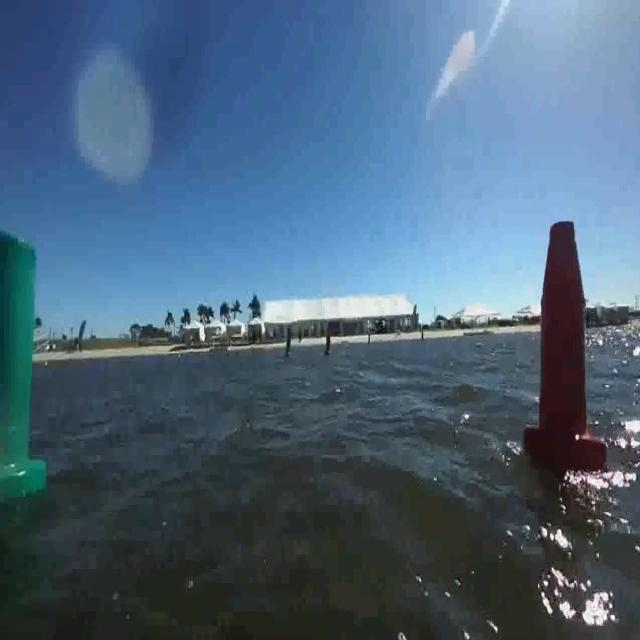green-column-buoy: (0, 227, 46, 495), (282, 326, 296, 359)
red-column-buoy: (525, 215, 608, 475), (326, 330, 336, 358)
